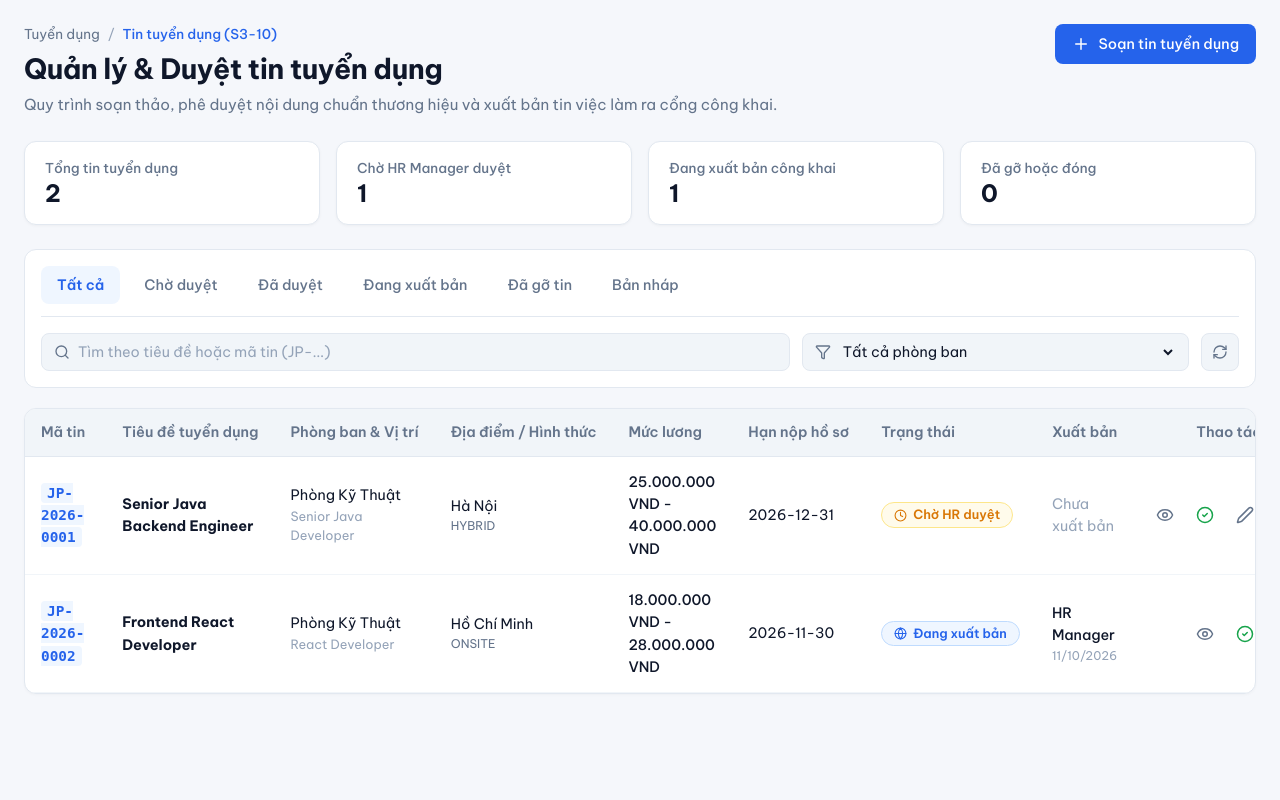
JobPostingManagementPage (S3-10 / SCRUM-151 / SCRUM-149 / SCRUM-150) › TC04 (SCRUM-149) - Duyệt & Xuất bản tin thành công trong 1 bước
What coordinates should you click on to do the following:
click the button "Xem trước & Duyệt" in the row of "Senior Java Backend Engineer"
I would click on:
 (1205, 515)
Its box is [1189, 499, 1221, 531].
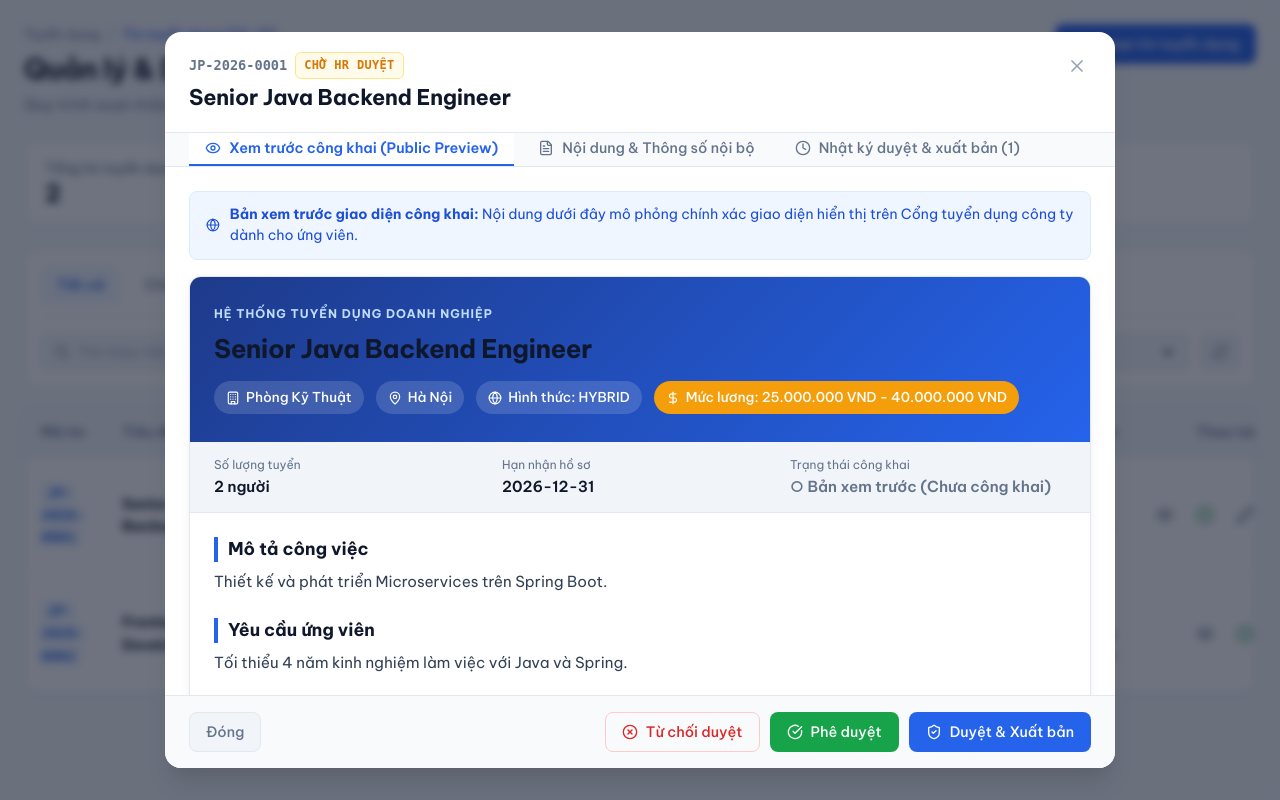
What coordinates should you click on to do the following:
click the button "Duyệt & Xuất bản"
I would click on:
 (1000, 732)
Its box is [909, 712, 1091, 752].
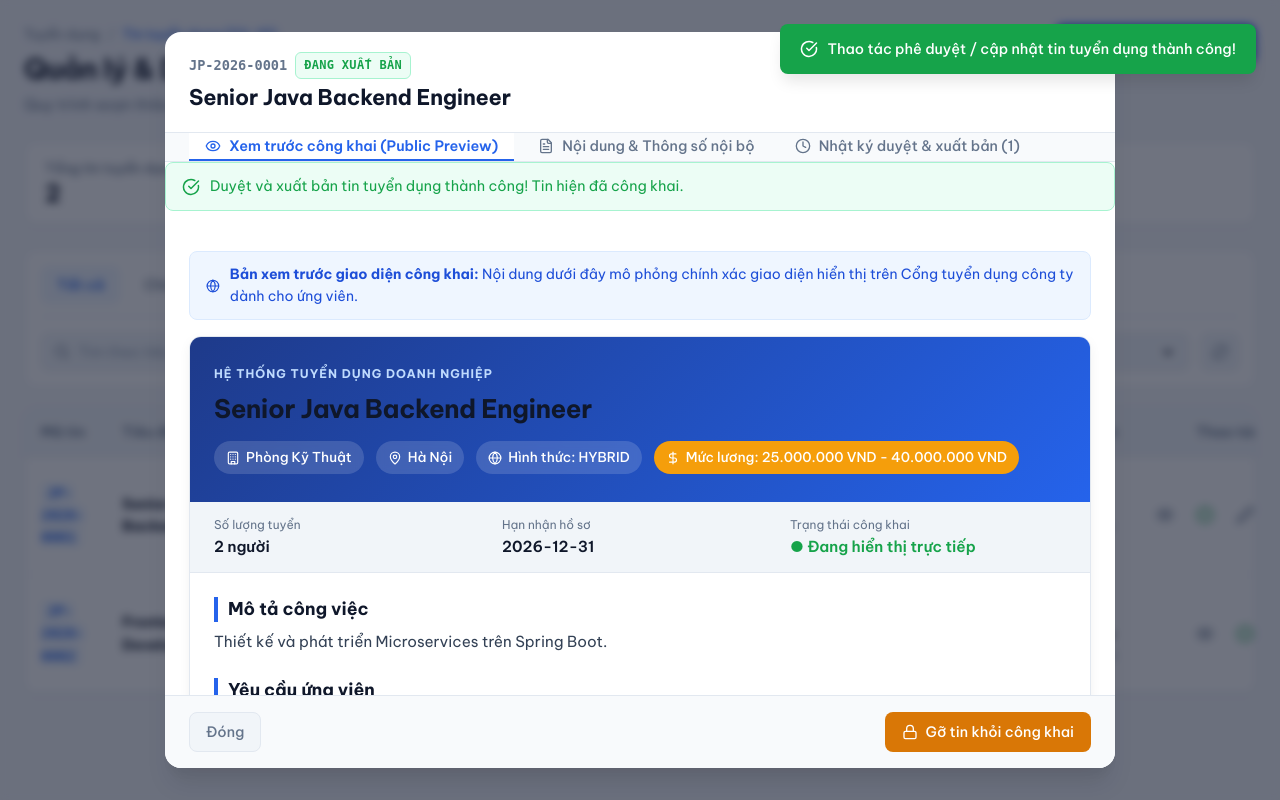
Expected: the text "Duyệt và xuất bản tin tuyển dụng thành công! Tin hiện đã công khai" is shown, [210, 177, 684, 195]
